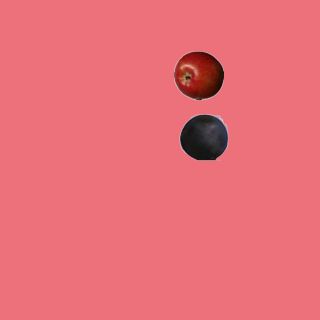Apple Braeburn: (173, 50, 223, 100)
Grape Blue: (178, 111, 228, 161)
